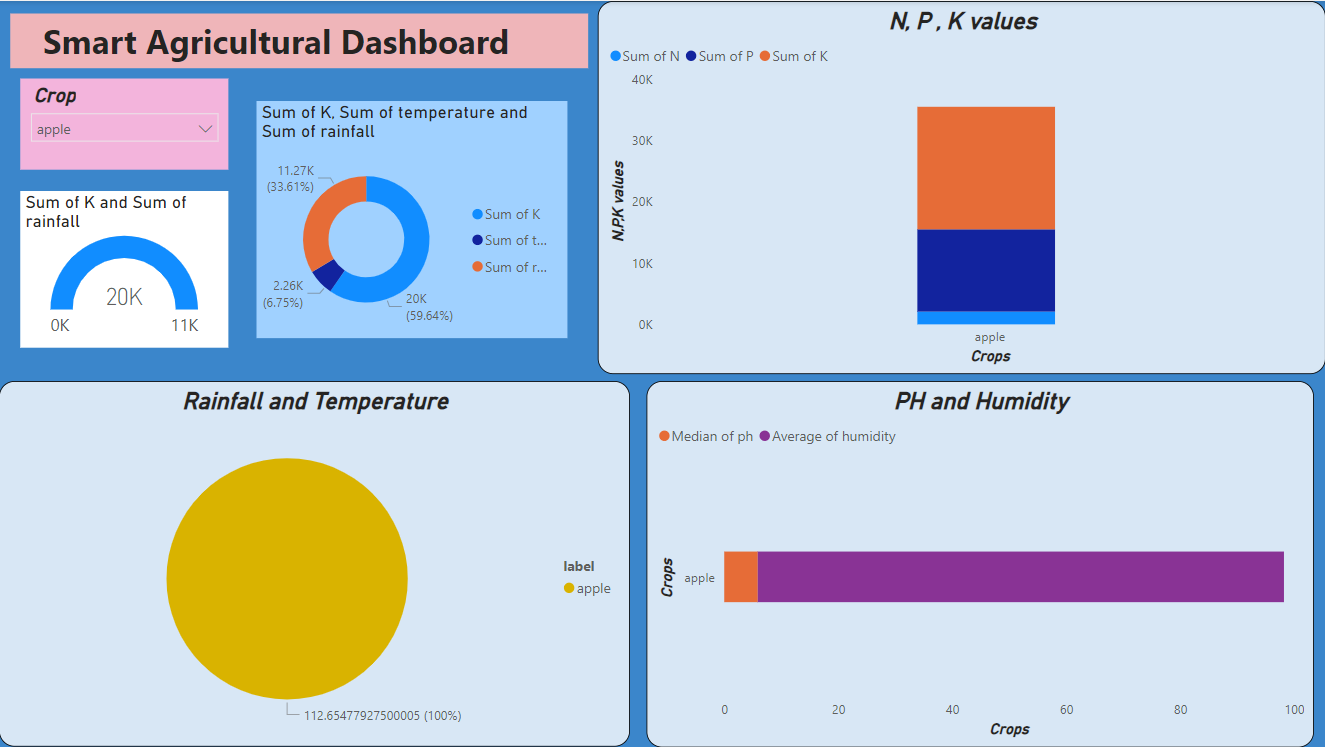

What the dashboard file says about the page in this screenshot:
{"tool":"powerbi","page":{"name":"Page 1","canvas":[1280,720],"ordinal":0},"visuals":[{"type":"textbox","box":[10.8,12.1,557.3,52.6],"z":0},{"type":"columnChart","title":" N, P , K values ","fields":{"Category":["Crop_recommendation.label"],"Y":["Sum(Crop_recommendation.N)","Sum(Crop_recommendation.P)","Sum(Crop_recommendation.K)"]},"box":[577.8,0,702.8,360.1],"z":1000},{"type":"pieChart","title":"Rainfall and Temperature","fields":{"Category":["Crop_recommendation.label"],"Y":["Avg(Crop_recommendation.rainfall)"]},"box":[0,367.1,608.6,352.9],"z":2000},{"type":"barChart","title":"PH and Humidity","fields":{"Category":["Crop_recommendation.label"],"Y":["Median(Crop_recommendation.ph)","Avg(Crop_recommendation.humidity)"]},"box":[624.8,366.8,643.6,353.4],"z":3000},{"type":"slicer","fields":{"Values":["Crop_recommendation.label"]},"box":[20.2,74.2,201.1,87.7],"z":4000},{"type":"donutChart","fields":{"Y":["Sum(Crop_recommendation.K)","Sum(Crop_recommendation.temperature)","Sum(Crop_recommendation.rainfall)"]},"box":[248.2,96,300.3,229],"z":5000},{"type":"gauge","fields":{"Y":["Sum(Crop_recommendation.K)"],"MaxValue":["Sum(Crop_recommendation.rainfall)"]},"box":[20.2,183.5,201.1,151.1],"z":5001}]}

Visuals, with their boxes in screenshot pixels (x1, y1, x2, y2), scaled from the page's 1280x720 canvas onto the 1325x747 screenshot:
textbox: <region>11, 13, 588, 67</region>
" N, P , K values " columnChart: <region>598, 0, 1324, 374</region>
"Rainfall and Temperature" pieChart: <region>0, 381, 630, 746</region>
"PH and Humidity" barChart: <region>647, 381, 1313, 746</region>
slicer - Crop_recommendation.label: <region>21, 77, 229, 168</region>
donutChart - Sum(Crop_recommendation.K) x Sum(Crop_recommendation.temperature): <region>257, 100, 568, 337</region>
gauge - Sum(Crop_recommendation.K) x Sum(Crop_recommendation.rainfall): <region>21, 190, 229, 347</region>
